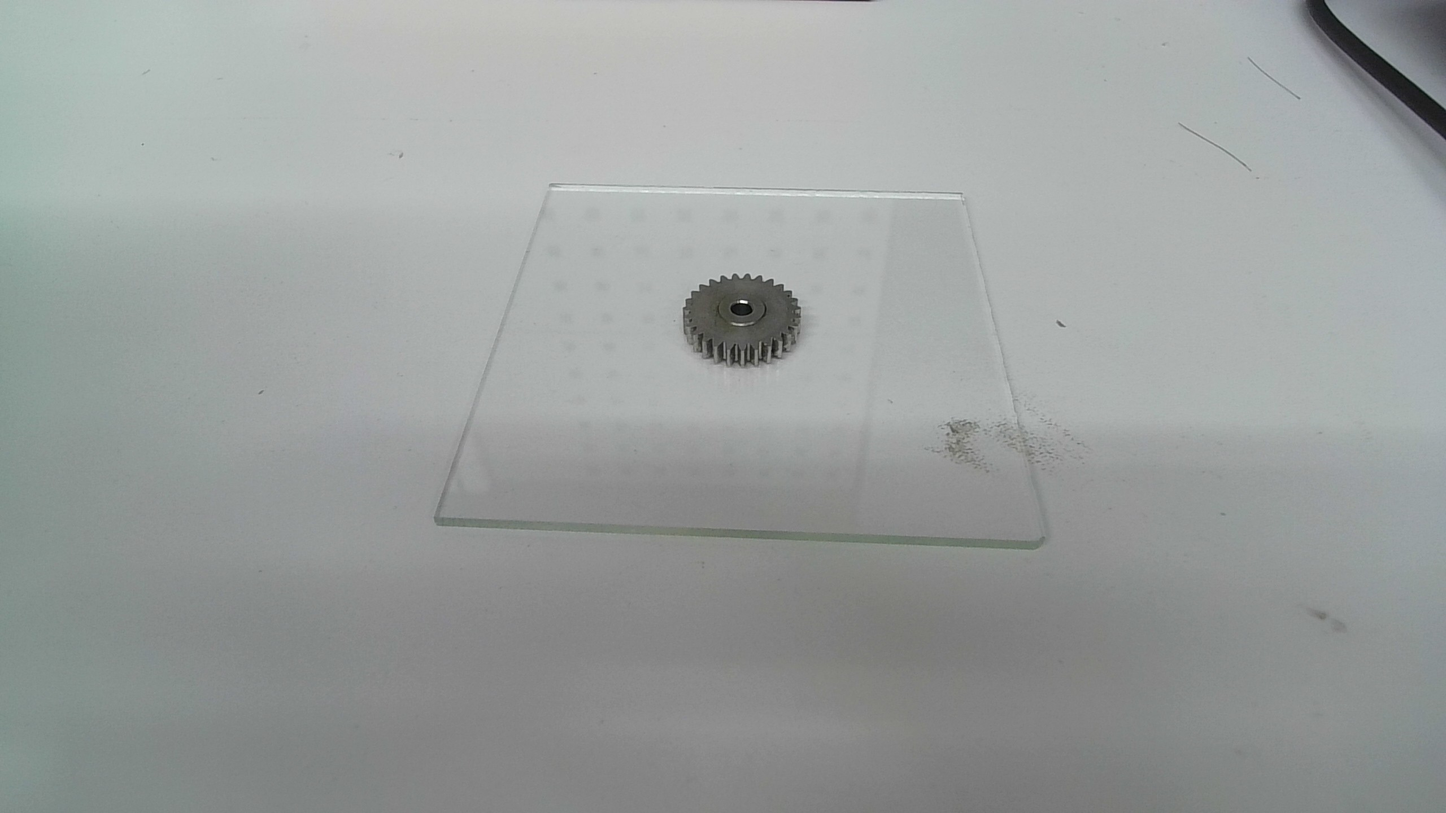gear: (678, 272, 804, 369)
